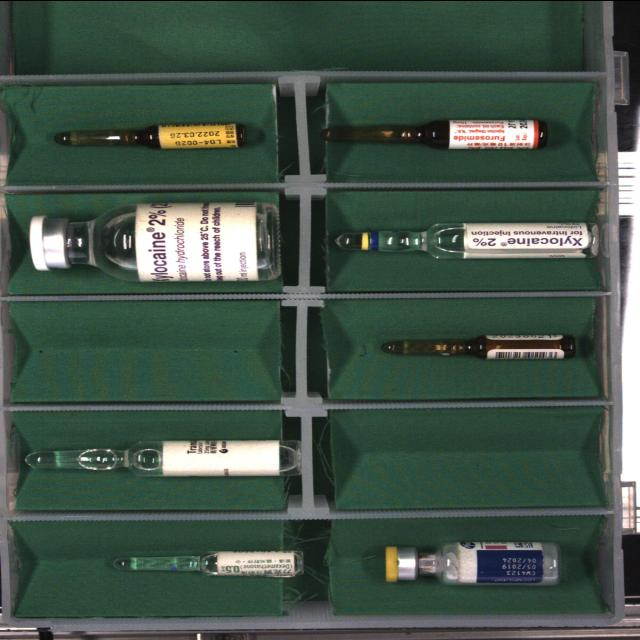Vials: (29, 201, 281, 281), (385, 540, 560, 585)
